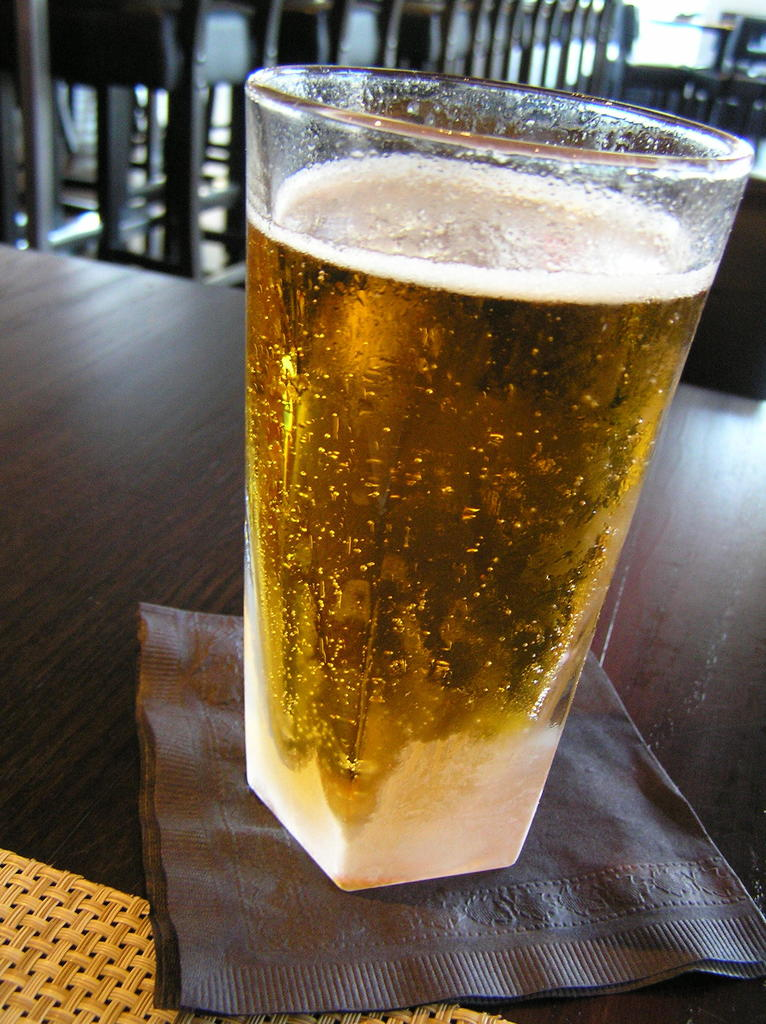Beer: (233, 147, 714, 891)
